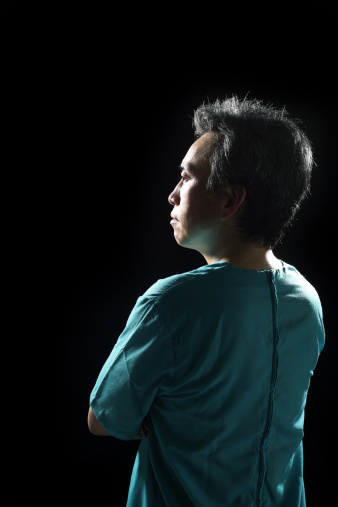em pe: (42, 89, 330, 507)
